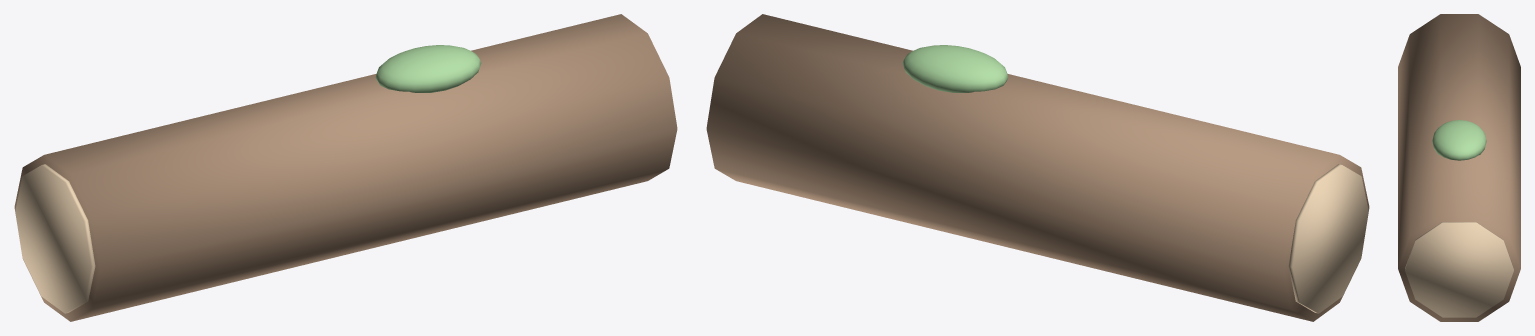
Rendered from log.glb.
The picture shows the model from 3 angles, left to right: view 1: azimuth 30°, elevation 25°; view 2: azimuth 150°, elevation 25°; view 3: azimuth 270°, elevation 25°; orthographic projection. The views are drawn at different scales.
Visible parts, largest first — view 1: log; view 2: log; view 3: log.
Boxes of the visible parts, <box> form: log: <box>14,14,677,321</box>; log: <box>706,14,1369,321</box>; log: <box>1398,14,1520,321</box>.
Bounding box in the file's own units: 1.42 × 0.3912 × 0.36.
